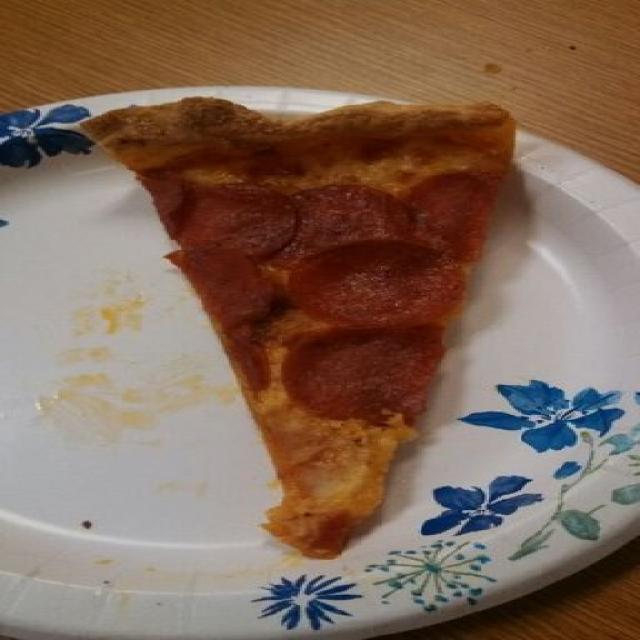Pepperoni: (149, 179, 497, 256), (307, 322, 447, 420), (306, 240, 462, 322), (167, 253, 289, 329), (219, 337, 275, 394)
Pizza: (82, 100, 516, 560)
